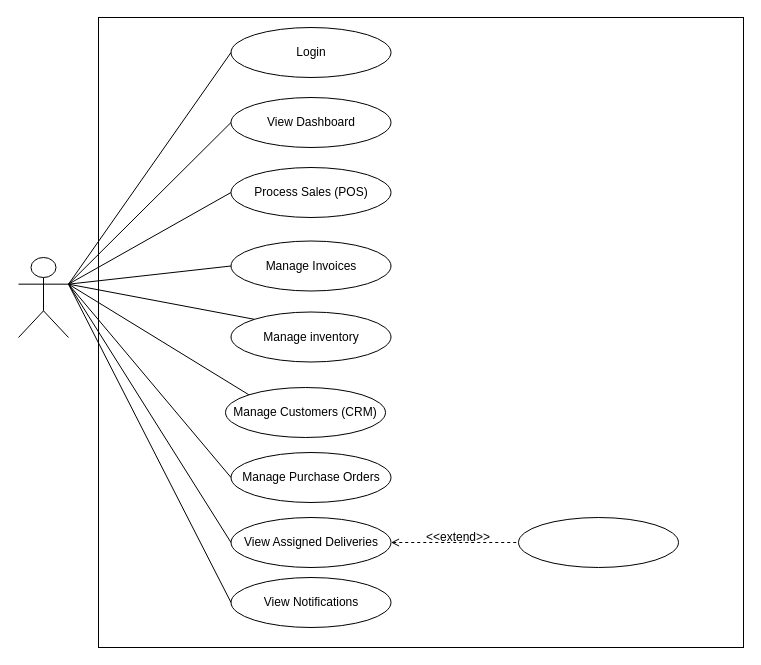
Some shapes in this 761 by 665 pixel diagram are drawn without their labels. The centre of each missing label's shape, as x and y in pixels:
Employee: the point at 43,297
Update Delivery Status: the point at 598,542
